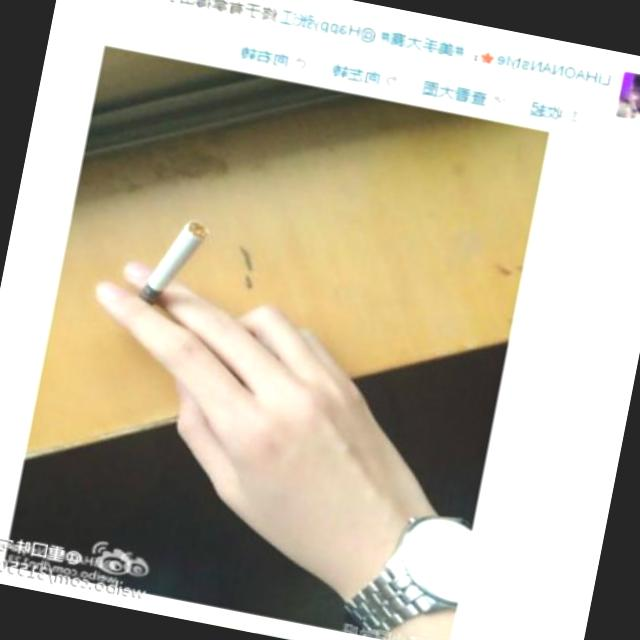smoke: (132, 207, 222, 318)
